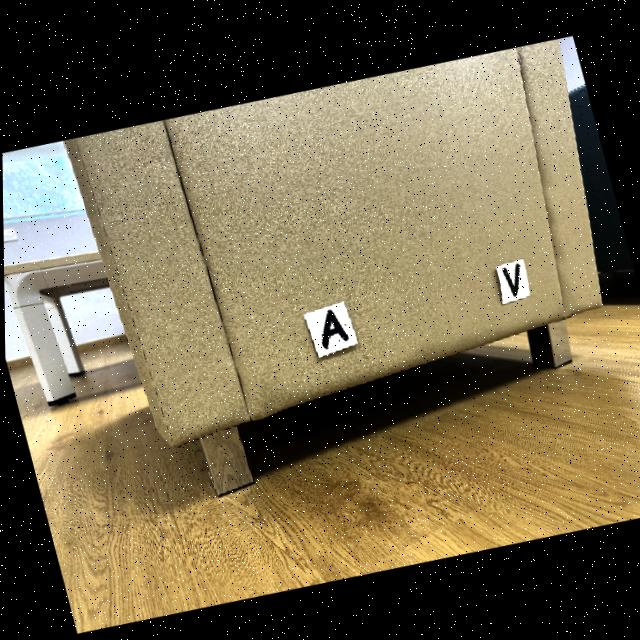A: (321, 306, 348, 345)
V: (502, 258, 519, 291)
